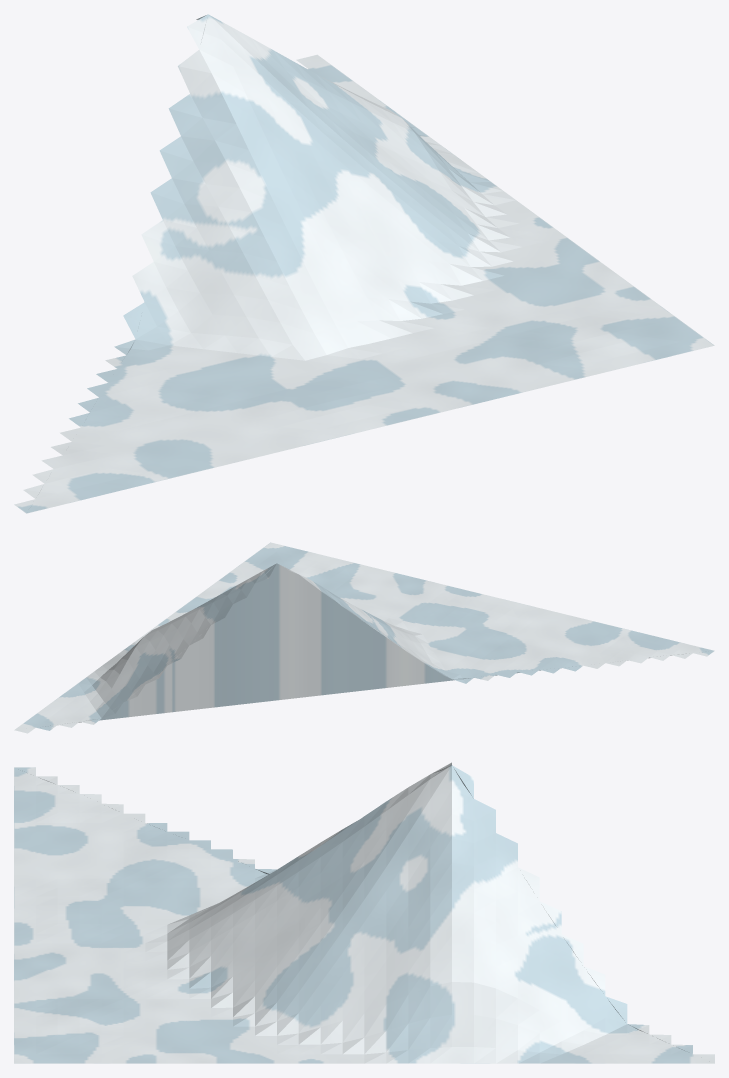
Rendered from Snow_Mountains_09_NE.obj.
3 renders of one model, top to bottom at view 1: azimuth 30°, elevation 25°; view 2: azimuth 150°, elevation 25°; view 3: azimuth 270°, elevation 25°, orthographic. The views are drawn at different scales.
Bounding box in the file's own units: 10 × 2.95 × 10.
1 material, 1 textured.
